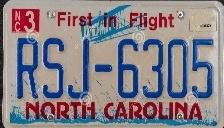0: (166, 37, 190, 100)
3: (140, 37, 166, 99)
5: (190, 37, 216, 100)
6: (116, 37, 141, 100)
J: (66, 37, 95, 100)
R: (14, 35, 41, 100)
S: (40, 36, 66, 99)
